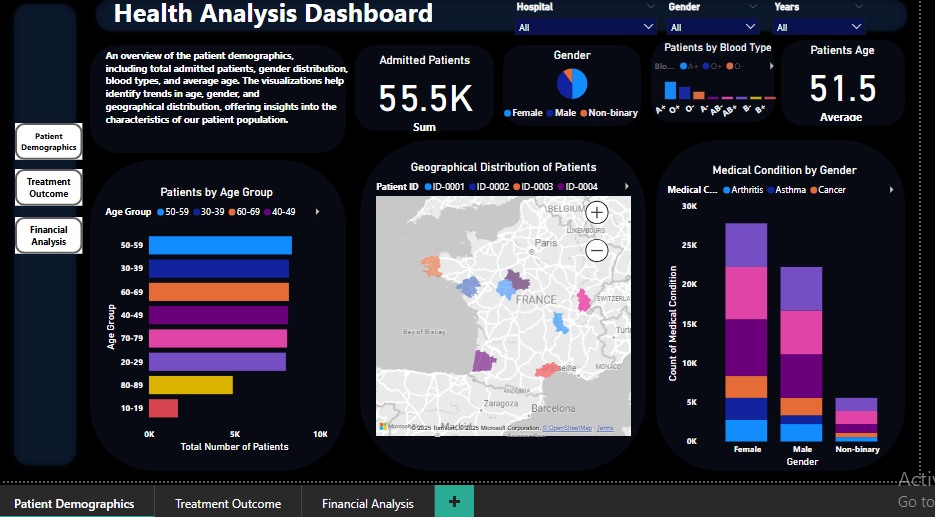

What the dashboard file says about the page in this screenshot:
{"tool":"powerbi","page":{"name":"Patient Demographics ","canvas":[1350,720],"ordinal":0},"visuals":[{"type":"shape","box":[132.2,2.9,1209.3,64.7],"z":0},{"type":"textbox","box":[161.6,0,689.1,127.8],"z":1000},{"type":"shape","box":[11.8,10.3,108.7,695],"z":2000},{"type":"shape","box":[132.2,79.3,376.2,158.7],"z":3000},{"type":"shape","box":[963.9,218.9,365.9,486.4],"z":4000},{"type":"shape","box":[739.1,79.3,202.8,119],"z":5000},{"type":"shape","box":[1147.6,72,182.2,126.4],"z":6000},{"type":"shape","box":[521.6,79.3,204.2,126.4],"z":7000},{"type":"shape","box":[132.2,248.3,376.2,457],"z":8000},{"type":"shape","box":[529,218.9,420.2,486.4],"z":9000},{"type":"card","title":"Admitted Patients","fields":{"Values":["Data.Total Nunber of Patients"]},"box":[521.6,86.7,204.2,126.4],"z":10000},{"type":"card","title":"Patients Age","fields":{"Values":["Data.Avg Age"]},"box":[1156.4,72,163.1,126.4],"z":11000},{"type":"columnChart","title":"Patients by Blood Type","fields":{"Category":["Data.Blood Type"],"Y":["Data.Total Nunber of Patients"],"Series":["Data.Blood Type"]},"box":[956.6,67.6,196.9,145.5],"z":12000},{"type":"pieChart","title":"Gender","fields":{"Category":["Data.Gender"],"Y":["Divide(Data.Total Nunber of Patients, ScopedEval(Data.Total Nunber of Patients, []))"]},"box":[731.8,79.3,216,119],"z":13000},{"type":"shape","box":[956.6,67.6,180.7,130.8],"z":14000},{"type":"barChart","title":" Patients by Age Group","fields":{"Category":["Data.Age Group"],"Y":["Data.Total Nunber of Patients"],"Series":["Data.Age Group"]},"box":[149.9,280.7,336.5,402.6],"z":15000},{"type":"columnChart","title":" Medical Condition by Gender","fields":{"Category":["Data.Gender"],"Y":["CountNonNull(Data.Medical Condition)"],"Series":["Data.Medical Condition"]},"box":[975.7,248.3,354.1,457],"z":16000},{"type":"slicer","fields":{"Values":["Data.Hospital"]},"box":[746.4,10.3,229.2,54.4],"z":17000},{"type":"textbox","box":[149.9,79.3,371.8,182.2],"z":18000},{"type":"filledMap","title":"Geographical Distribution of Patients","fields":{"Category":["Data.Hospital Longitude","Data.Hospital Latitude"],"Series":["Data.Patient ID"]},"box":[548.1,248.3,383.5,411.4],"z":19000},{"type":"slicer","fields":{"Values":["Data.Gender"]},"box":[969.8,10.3,155.8,54.4],"z":20000},{"type":"slicer","fields":{"Values":["Data.Years"]},"box":[1125.6,10.3,155.8,54.4],"z":21000},{"type":"actionButton","title":"Demographics","box":[21.6,194.7,99.1,54.1],"z":21001},{"type":"actionButton","title":"Demographics","box":[21.6,261.3,99.1,54.1],"z":21002},{"type":"actionButton","title":"Demographics","box":[21.6,331.6,99.1,54.1],"z":21003}]}

Visuals, with their boxes on the page's 1350x720 design canvas (x1, y1, x2, y2). These are canvas units, not pixel positions in the 935x517 screenshot, which may show the page scaled, cropped or inside an application window:
shape: (132, 3, 1342, 68)
textbox: (162, 0, 851, 128)
shape: (12, 10, 120, 705)
shape: (132, 79, 508, 238)
shape: (964, 219, 1330, 705)
shape: (739, 79, 942, 198)
shape: (1148, 72, 1330, 198)
shape: (522, 79, 726, 206)
shape: (132, 248, 508, 705)
shape: (529, 219, 949, 705)
"Admitted Patients" card: (522, 87, 726, 213)
"Patients Age" card: (1156, 72, 1320, 198)
"Patients by Blood Type" columnChart: (957, 68, 1154, 213)
"Gender" pieChart: (732, 79, 948, 198)
shape: (957, 68, 1137, 198)
" Patients by Age Group" barChart: (150, 281, 486, 683)
" Medical Condition by Gender" columnChart: (976, 248, 1330, 705)
slicer - Data.Hospital: (746, 10, 976, 65)
textbox: (150, 79, 522, 262)
"Geographical Distribution of Patients" filledMap: (548, 248, 932, 660)
slicer - Data.Gender: (970, 10, 1126, 65)
slicer - Data.Years: (1126, 10, 1281, 65)
"Demographics" actionButton: (22, 195, 121, 249)
"Demographics" actionButton: (22, 261, 121, 315)
"Demographics" actionButton: (22, 332, 121, 386)
